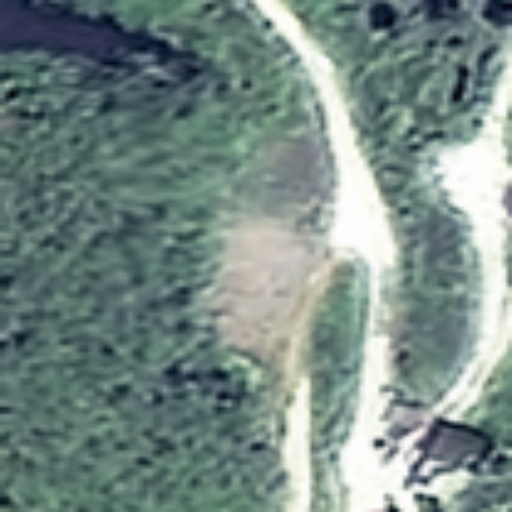landslide: (211, 224, 320, 358)
